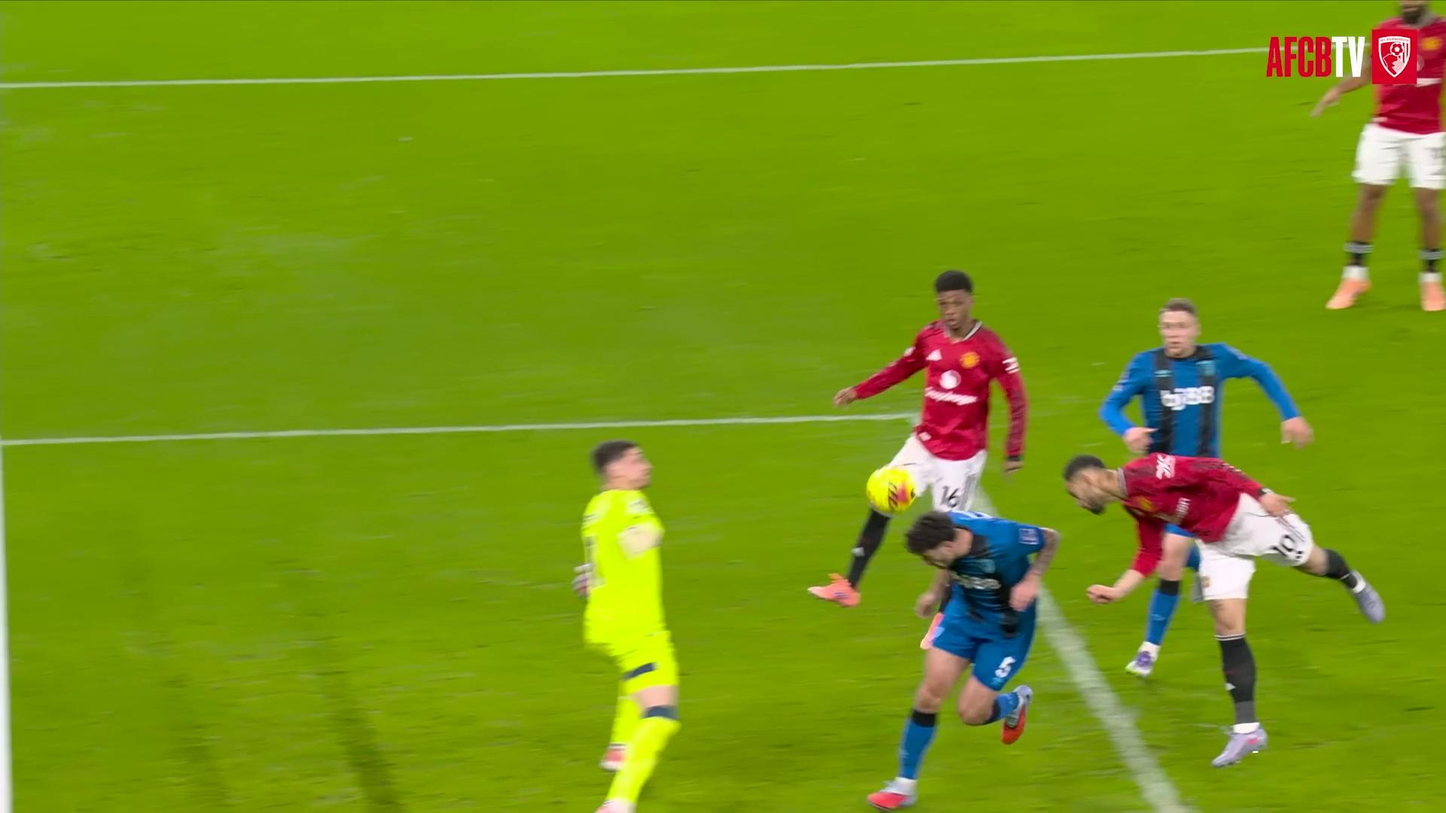football: (866, 467, 917, 515)
player: (1064, 453, 1383, 766), (868, 511, 1059, 809), (834, 270, 1027, 510), (574, 441, 679, 812), (1326, 0, 1445, 310), (1099, 298, 1312, 457)
referee: (1100, 298, 1312, 457)
